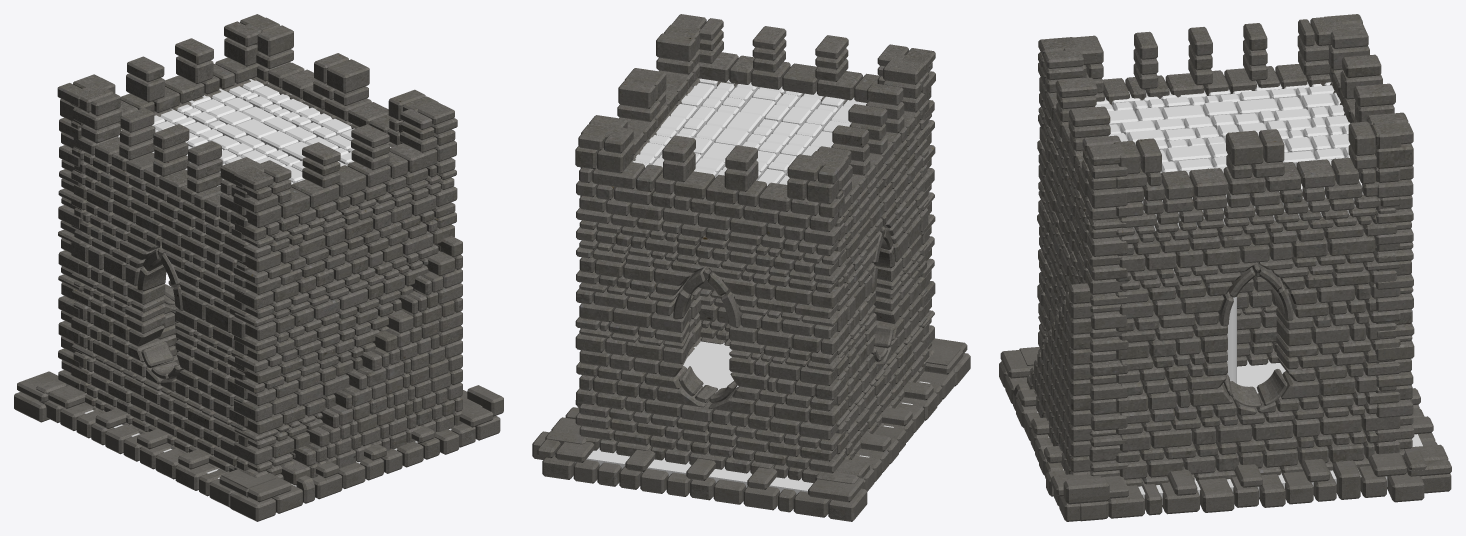
The model's file is wall tanker.fbx.
The picture shows the model from 3 angles, left to right: view 1: azimuth 30°, elevation 25°; view 2: azimuth 150°, elevation 25°; view 3: azimuth 270°, elevation 25°; orthographic projection. The views are drawn at different scales.
Visible parts, largest first — view 1: Wall.028, Wall.029, Wall.027, Wall.038, Wall.030, Wall.031, Wall.034; view 2: Wall.027, Wall.029, Wall.038, Wall.028, Wall.034, Wall.031, Cube.001, Plane.002, Wall.033, Wall.030; view 3: Wall.027, Wall.028, Wall.038, Wall.029, Wall.033, Wall.030, Wall.034, Plane.002.
Boxes of the visible parts, x1,y1,x2,y2 form: Wall.028: (233, 100, 462, 485); Wall.029: (70, 83, 263, 473); Wall.027: (57, 14, 438, 390); Wall.038: (118, 79, 391, 186); Wall.030: (230, 385, 503, 521); Wall.031: (36, 379, 275, 507); Wall.034: (14, 371, 58, 422); Wall.027: (575, 24, 845, 482); Wall.029: (808, 54, 929, 459); Wall.038: (633, 78, 866, 185); Wall.028: (671, 14, 935, 368); Wall.034: (537, 439, 867, 521); Wall.031: (815, 344, 963, 491); Cube.001: (575, 381, 930, 499); Plane.002: (683, 341, 738, 392); Wall.033: (532, 400, 586, 459); Wall.030: (932, 338, 970, 386); Wall.027: (1113, 14, 1414, 486); Wall.028: (1027, 37, 1128, 484); Wall.038: (1095, 81, 1375, 232); Wall.029: (1063, 16, 1344, 366); Wall.033: (1080, 447, 1426, 521); Wall.030: (999, 350, 1109, 521); Wall.034: (1403, 388, 1451, 493); Plane.002: (1223, 297, 1285, 393).
Bounding box in the file's own units: 2278 × 2060 × 2409.
